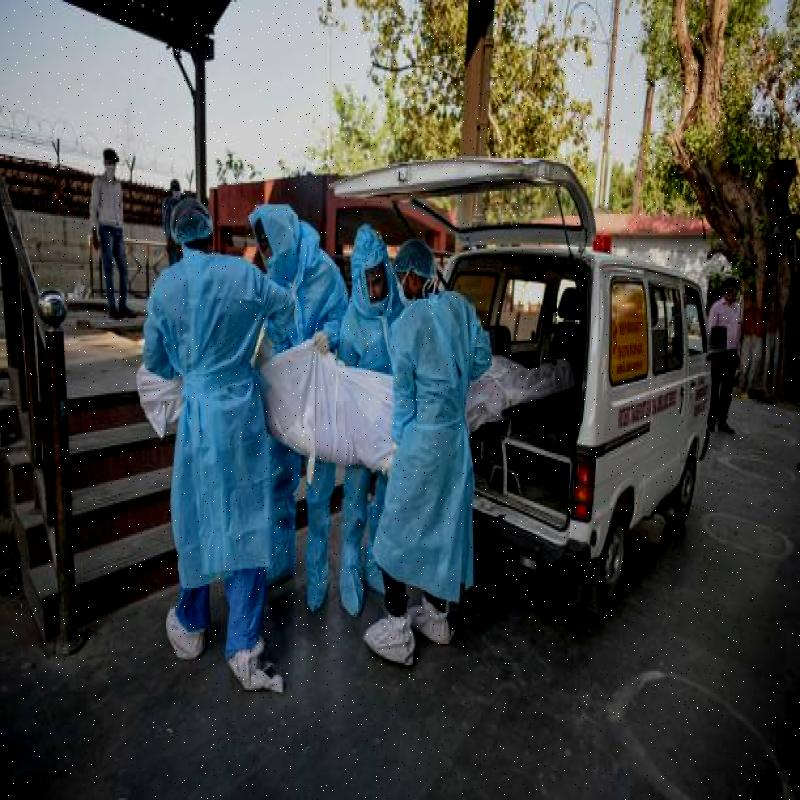ambulance: (469, 176, 725, 602)
